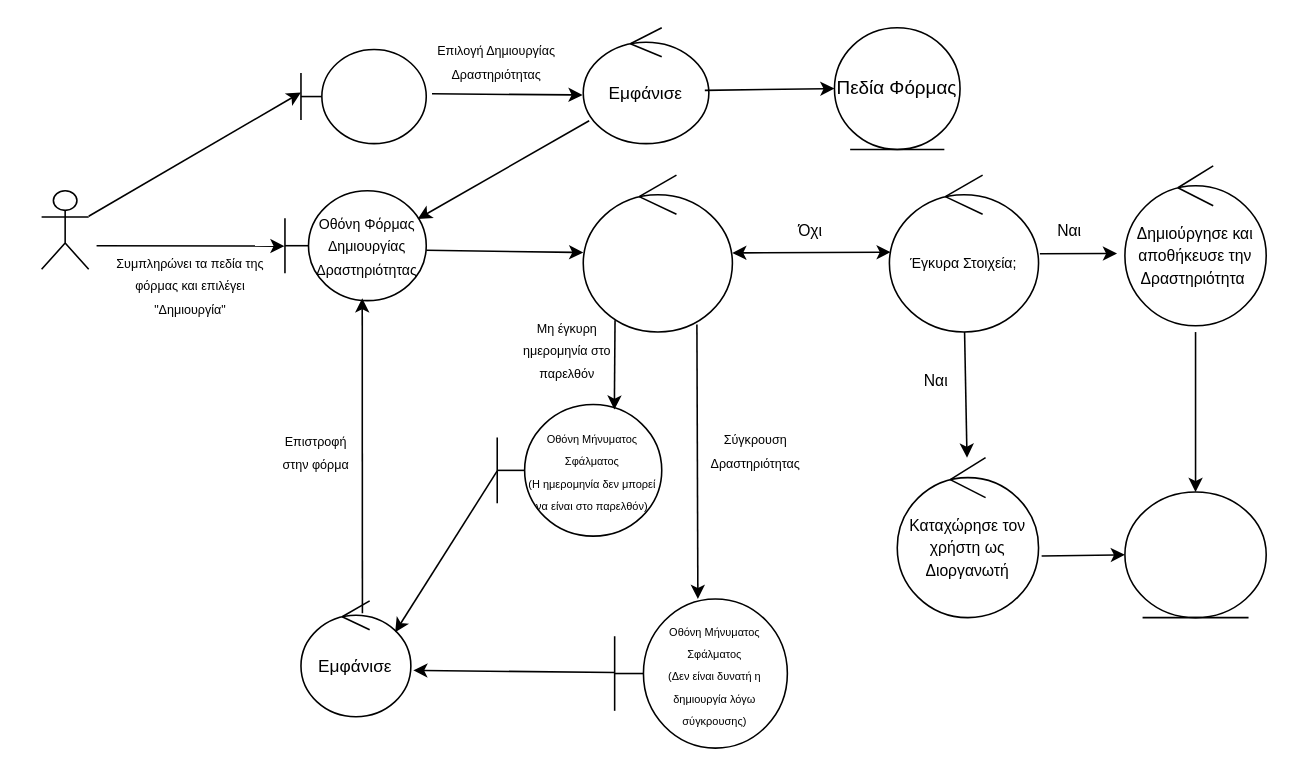
The diagram is 1294 pixels wide and 776 high, and some of its shapes have lost their labels. Each missing label, with the centre of its shape:
"Έλεγχος Εγκυρότητας" belongs at (x=657, y=252).
"Βάση Δεδομένων" belongs at (x=1194, y=554).
"Κεντρικό Μενού" belongs at (x=362, y=96).
"Φοιτητής" belongs at (x=64, y=229).
